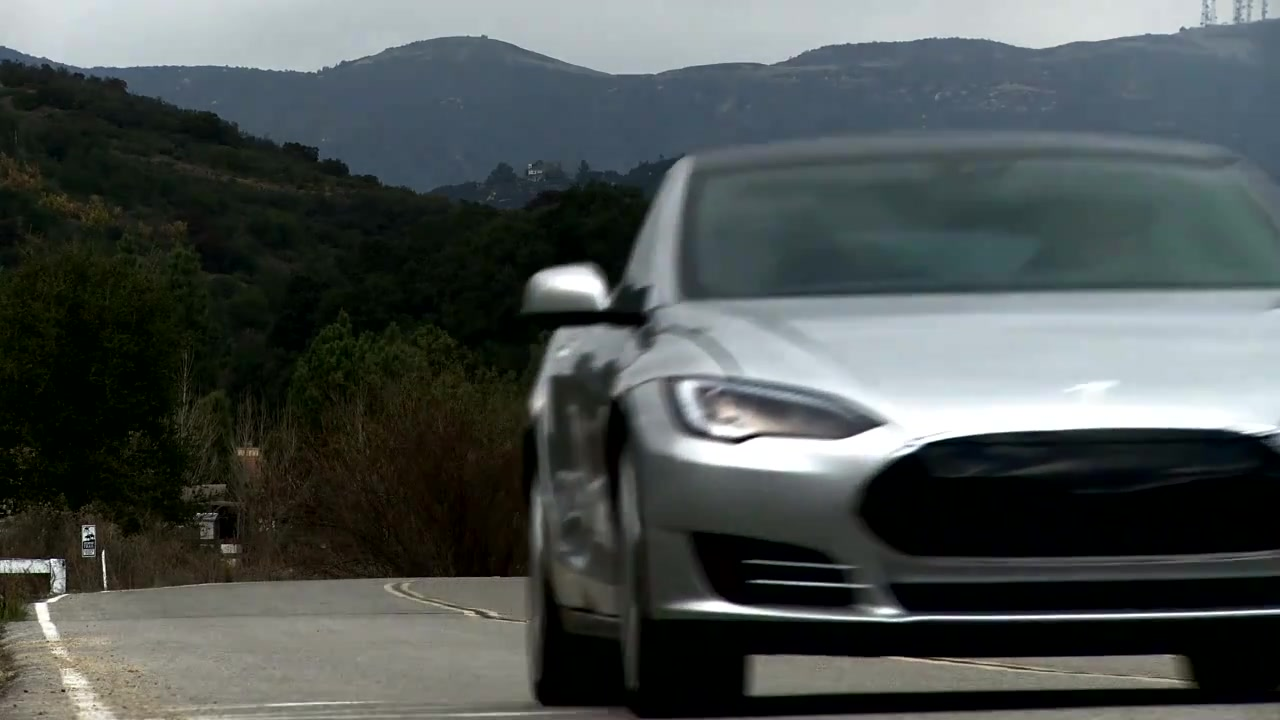car: (513, 124, 1280, 719)
